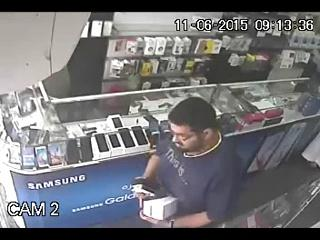shoplifting: (132, 97, 242, 228)
